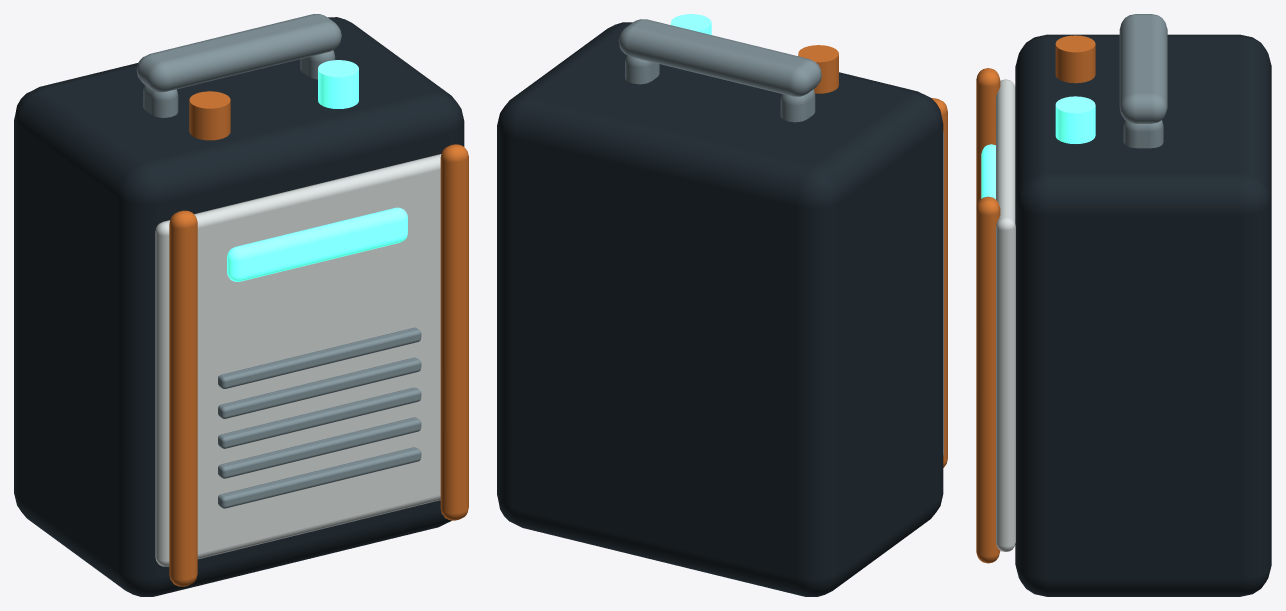
Rendered from battery.glb.
The picture shows the model from 3 angles, left to right: view 1: azimuth 30°, elevation 25°; view 2: azimuth 150°, elevation 25°; view 3: azimuth 270°, elevation 25°; orthographic projection. The views are drawn at different scales.
Visible parts, largest first — view 1: dark, white, metal, orange, light; view 2: dark, metal, orange, light; view 3: dark, orange, white, metal, light.
Part boxes in pixels (x1,y1,x2,y2): dark: [14, 17, 464, 596]; white: [155, 154, 441, 566]; metal: [136, 14, 421, 508]; orange: [169, 91, 468, 586]; light: [227, 60, 407, 281]; dark: [497, 22, 943, 596]; metal: [618, 19, 821, 122]; orange: [798, 45, 947, 467]; light: [671, 14, 711, 34]; dark: [1015, 34, 1271, 596]; orange: [976, 35, 1095, 563]; white: [996, 79, 1015, 551]; metal: [1119, 14, 1167, 148]; light: [981, 96, 1095, 199].
Size of the model in its own units: 0.48 by 0.65 by 0.369.
